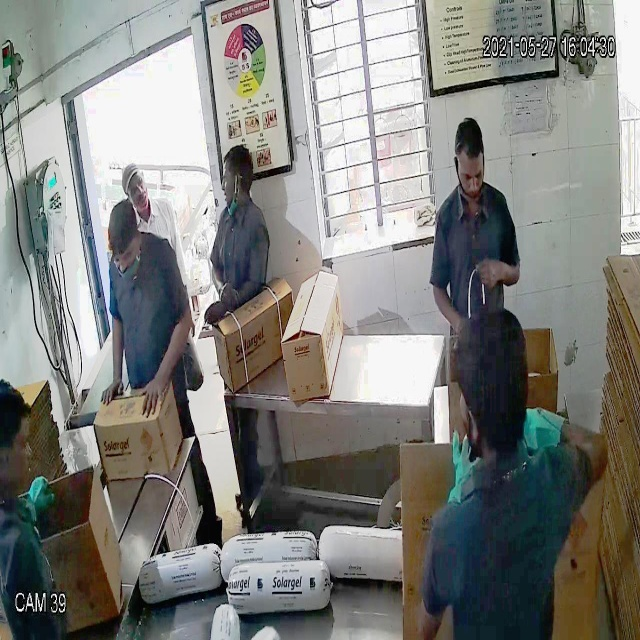Sin_gafas: (452, 155, 492, 194)
